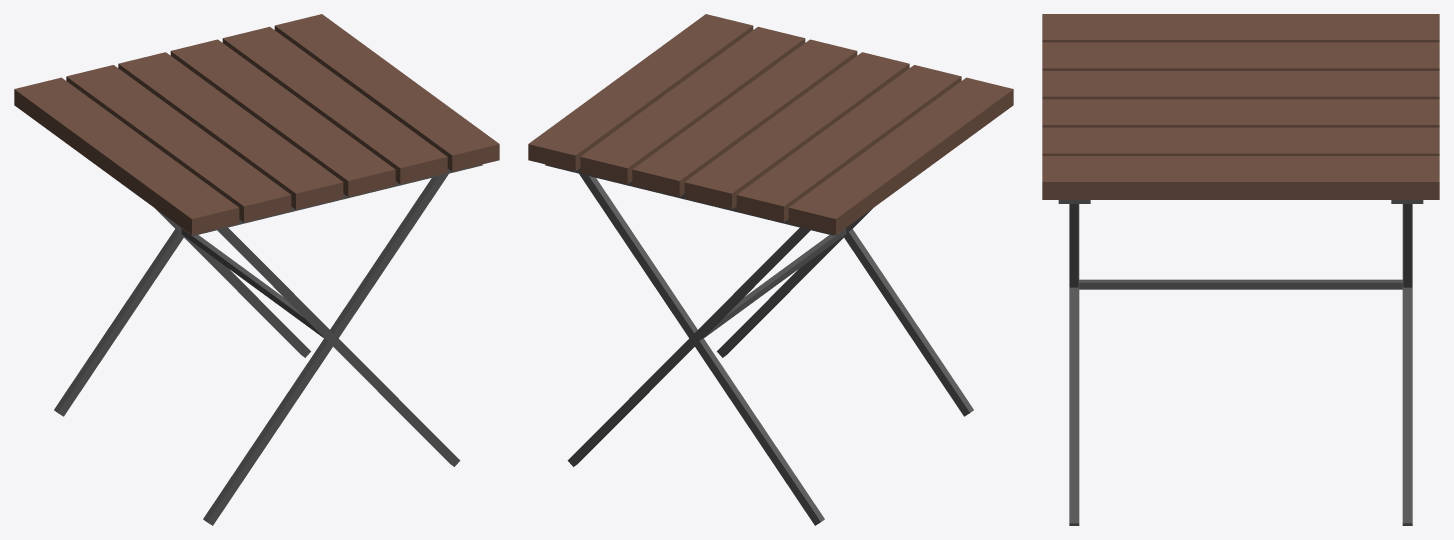
Rendered from Table_08.fbx.
3 views of the same model, side by side, from view 1: azimuth 30°, elevation 25°; view 2: azimuth 150°, elevation 25°; view 3: azimuth 270°, elevation 25° (orthographic). The views are drawn at different scales.
Parts seen in each view (by area): view 1: Table_08; view 2: Table_08; view 3: Table_08.
Boxes of the visible parts, bbox=[...] form: Table_08: bbox=[14, 14, 499, 525]; Table_08: bbox=[528, 14, 1013, 525]; Table_08: bbox=[1042, 14, 1439, 525].
Size of the model in its own units: 80 by 80.43 by 80.
